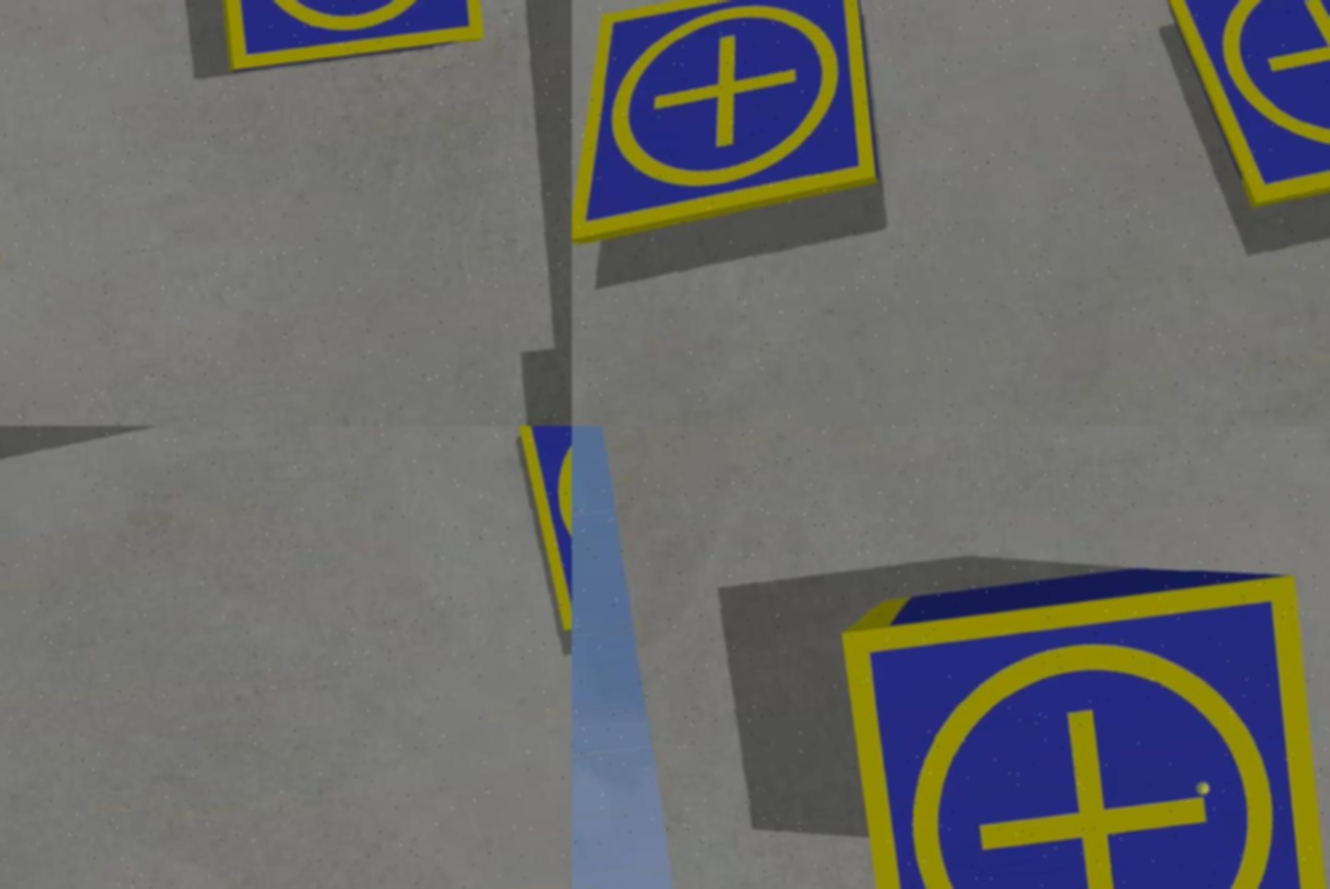small_base: (838, 572, 1330, 889), (573, 1, 889, 243), (1158, 1, 1330, 213), (212, 1, 485, 73)
